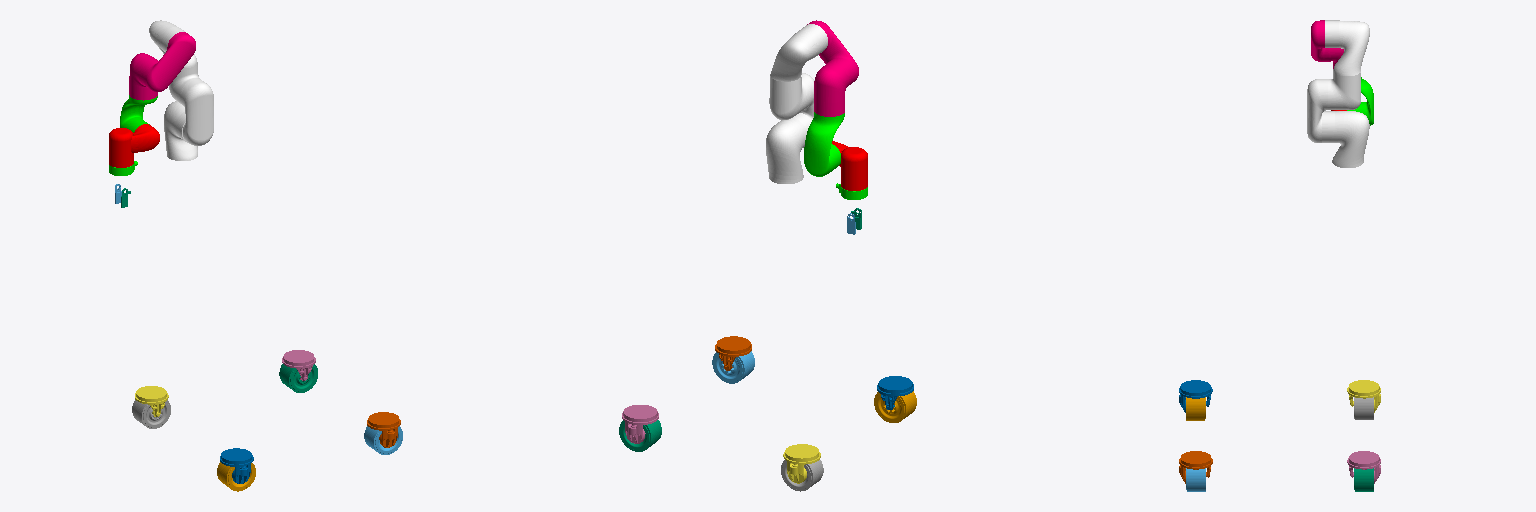
The robot description file, URDF, robot "demo_bot":
<?xml version="1.0" ?>
<robot name="demo_bot">

  <!-- KDL requires the tree root to have no inertia.  Keep the physical
       chassis unchanged beneath a massless fixed root frame. -->
  <link name="base_footprint"/>

  <joint name="base_footprint_to_chassis" type="fixed">
    <parent link="base_footprint"/>
    <child link="Chassis_1"/>
    <!-- The exported mesh/joint tree is X-up relative to ROS's Z-up view. -->
    <origin xyz="0 0 0.89259868" rpy="3.141592653589793 0 0"/>
  </joint>

  <link name="Chassis_1">
    <visual name="Chassis_1_visual">
      <origin xyz="0 0 0" rpy="0 0 0"/>
      <geometry>
        <mesh filename="package://base_urdf/meshes/Chassis_1.stl"/>
      </geometry>
      <material name="Chassis_1-material">
        <color rgba="0 1 0 1"/>
      </material>
    </visual>
    <collision name="Chassis_1_collision">
      <origin xyz="0 0 0" rpy="0 0 0"/>
      <geometry>
        <mesh filename="package://base_urdf/meshes/Chassis_1.stl"/>
      </geometry>
    </collision>
    <inertial>
      <mass value="15.0"/>
      <origin xyz="0.125 0.198 0.4" rpy="0 0 0"/>
      <inertia ixx="0.5" ixy="0.0" ixz="0.0" iyy="0.5" iyz="0.0" izz="0.5"/>
    </inertial>
  </link>

  <link name="arm_shoulder241_1">
    <visual>
      <geometry><mesh filename="package://base_urdf/meshes/arm_shoulder241_1.stl"/></geometry>
      <material name="white"><color rgba="1 1 1 1"/></material>
    </visual>
    <collision>
      <geometry><mesh filename="package://base_urdf/meshes/arm_shoulder241_1.stl"/></geometry>
    </collision>
    <inertial>
      <origin xyz="0.00022 0.02951 -0.0124" rpy="0 0 0"/>
      <mass value="2.382"/>
      <inertia ixx="0.005856" ixy="-1.79e-05" ixz="3.55e-06" iyy="0.005031" iyz="0.00149" izz="0.003536"/>
    </inertial>
  </link>

  <link name="arm_elbow_4_1">
    <visual>
      <geometry><mesh filename="package://base_urdf/meshes/arm_elbow_4_1.stl"/></geometry>
      <material name="white"><color rgba="1 1 1 1"/></material>
    </visual>
    <collision>
      <geometry><mesh filename="package://base_urdf/meshes/arm_elbow_4_1.stl"/></geometry>
    </collision>
    <inertial>
      <origin xyz="0.03853 -0.0906 0.0" rpy="0 0 0"/>
      <mass value="2.269"/>
      <inertia ixx="0.01572" ixy="0.003611" ixz="2.3e-06" iyy="0.00443" iyz="2.5e-06" izz="0.01532"/>
    </inertial>
  </link>

  <link name="elbow2_p4_1">
    <visual>
      <geometry><mesh filename="package://base_urdf/meshes/elbow2_p4_1.stl"/></geometry>
      <material name="red_ish"><color rgba="1 0 0.5 1"/></material>
    </visual>
    <collision>
      <geometry><mesh filename="package://base_urdf/meshes/elbow2_p4_1.stl"/></geometry>
    </collision>
    <inertial>
      <origin xyz="0.07048 0.04217 -0.00017" rpy="0 0 0"/>
      <mass value="1.875"/>
      <inertia ixx="0.004641" ixy="0.001595" ixz="1.1e-06" iyy="0.004625" iyz="-3.6e-06" izz="0.007501"/>
    </inertial>
  </link>

  <link name="wrist_1_p4_1">
    <visual>
      <geometry><mesh filename="package://base_urdf/meshes/wrist_1_p4_1.stl"/></geometry>
      <material name="green"><color rgba="0 1 0 1"/></material>
    </visual>
    <collision>
      <geometry><mesh filename="package://base_urdf/meshes/wrist_1_p4_1.stl"/></geometry>
    </collision>
    <inertial>
      <origin xyz="-0.00022 0.02951 -0.0124" rpy="0 0 0"/>
      <mass value="1.313"/>
      <inertia ixx="0.003905" ixy="5.04e-06" ixz="-4.2e-07" iyy="0.003794" iyz="0.000101" izz="0.001155"/>
    </inertial>
  </link>

  <link name="wrist_2_p4_1">
    <visual>
      <geometry><mesh filename="package://base_urdf/meshes/wrist_2_p4_1.stl"/></geometry>
      <material name="red"><color rgba="1 0 0 1"/></material>
    </visual>
    <collision>
      <geometry><mesh filename="package://base_urdf/meshes/wrist_2_p4_1.stl"/></geometry>
    </collision>
    <inertial>
      <origin xyz="0.06341 0.01024 0.00019" rpy="0 0 0"/>
      <mass value="1.338"/>
      <inertia ixx="0.001363" ixy="0.000236" ixz="-1.6e-07" iyy="0.002623" iyz="3.6e-07" izz="0.002692"/>
    </inertial>
  </link>

  <link name="end_effector_p4_1">
    <visual>
      <geometry><mesh filename="package://base_urdf/meshes/end_effector_p4_1.stl"/></geometry>
      <material name="green"><color rgba="0 1 0 1"/></material>
    </visual>
    <collision>
      <geometry><mesh filename="package://base_urdf/meshes/end_effector_p4_1.stl"/></geometry>
    </collision>
    <inertial>
      <origin xyz="0.0 0.0 -0.00643" rpy="0 0 0"/>
      <mass value="0.17"/>
      <inertia ixx="0.0001" ixy="0.0" ixz="0.0" iyy="0.0001" iyz="0.0" izz="0.0001"/>
    </inertial>
  </link>

  <link name="gripper_v43_1">
    <visual>
      <geometry><mesh filename="package://base_urdf/meshes/gripper_v43_1.stl"/></geometry>
    </visual>
    <collision>
      <geometry><mesh filename="package://base_urdf/meshes/gripper_v43_1.stl"/></geometry>
    </collision>
    <inertial>
      <mass value="0.5"/>
      <origin xyz="-0.133 -0.007 0.33" rpy="0 0 0"/>
      <inertia ixx="4.73e-05" iyy="5.61e-05" izz="8.89e-06" ixy="0" ixz="0" iyz="0"/>
    </inertial>
  </link>

  <link name="Finger_left_2">
    <visual><geometry><mesh filename="package://base_urdf/meshes/Finger_left_2.stl"/></geometry></visual>
    <collision><geometry><mesh filename="package://base_urdf/meshes/Finger_left_2.stl"/></geometry></collision>
    <inertial><mass value="0.1"/><inertia ixx="0.0001" iyy="0.0001" izz="0.0001" ixy="0" ixz="0" iyz="0"/></inertial>
  </link>
  <link name="Finger_right_2">
    <visual><geometry><mesh filename="package://base_urdf/meshes/Finger_right_2.stl"/></geometry></visual>
    <collision><geometry><mesh filename="package://base_urdf/meshes/Finger_right_2.stl"/></geometry></collision>
    <inertial><mass value="0.1"/><inertia ixx="0.0001" iyy="0.0001" izz="0.0001" ixy="0" ixz="0" iyz="0"/></inertial>
  </link>

  <link name="Az_Front_Left_1">
    <visual><geometry><mesh filename="package://base_urdf/meshes/Az_Front_Left_1.stl"/></geometry></visual>
    <collision><geometry><mesh filename="package://base_urdf/meshes/Az_Front_Left_1.stl"/></geometry></collision>
    <inertial><mass value="0.5"/><inertia ixx="0.01" iyy="0.01" izz="0.01" ixy="0" ixz="0" iyz="0"/></inertial>
  </link>
  <link name="Az_Front_right_1">
    <visual><geometry><mesh filename="package://base_urdf/meshes/Az_Front_right_1.stl"/></geometry></visual>
    <collision><geometry><mesh filename="package://base_urdf/meshes/Az_Front_right_1.stl"/></geometry></collision>
    <inertial><mass value="0.5"/><inertia ixx="0.01" iyy="0.01" izz="0.01" ixy="0" ixz="0" iyz="0"/></inertial>
  </link>
  <link name="Az_Back_Right_1">
    <visual><geometry><mesh filename="package://base_urdf/meshes/Az_Back_Right_1.stl"/></geometry></visual>
    <collision><geometry><mesh filename="package://base_urdf/meshes/Az_Back_Right_1.stl"/></geometry></collision>
    <inertial><mass value="0.5"/><inertia ixx="0.01" iyy="0.01" izz="0.01" ixy="0" ixz="0" iyz="0"/></inertial>
  </link>
  <link name="Az_Back_left_1">
    <visual><geometry><mesh filename="package://base_urdf/meshes/Az_Back_left_1.stl"/></geometry></visual>
    <collision><geometry><mesh filename="package://base_urdf/meshes/Az_Back_left_1.stl"/></geometry></collision>
    <inertial><mass value="0.5"/><inertia ixx="0.01" iyy="0.01" izz="0.01" ixy="0" ixz="0" iyz="0"/></inertial>
  </link>

  <link name="Wheel_Front_Left_1">
    <visual><geometry><mesh filename="package://base_urdf/meshes/Wheel_Front_Left_1.stl"/></geometry></visual>
    <collision><geometry><mesh filename="package://base_urdf/meshes/Wheel_Front_Left_1.stl"/></geometry></collision>
    <inertial><mass value="1.0"/><inertia ixx="0.02" iyy="0.02" izz="0.02" ixy="0" ixz="0" iyz="0"/></inertial>
  </link>
  <link name="Wheel_Front_Right_1">
    <visual><geometry><mesh filename="package://base_urdf/meshes/Wheel_Front_Right_1.stl"/></geometry></visual>
    <collision><geometry><mesh filename="package://base_urdf/meshes/Wheel_Front_Right_1.stl"/></geometry></collision>
    <inertial><mass value="1.0"/><inertia ixx="0.02" iyy="0.02" izz="0.02" ixy="0" ixz="0" iyz="0"/></inertial>
  </link>
  <link name="Wheel_Back_Right_1">
    <visual><geometry><mesh filename="package://base_urdf/meshes/Wheel_Back_Right_1.stl"/></geometry></visual>
    <collision><geometry><mesh filename="package://base_urdf/meshes/Wheel_Back_Right_1.stl"/></geometry></collision>
    <inertial><mass value="1.0"/><inertia ixx="0.02" iyy="0.02" izz="0.02" ixy="0" ixz="0" iyz="0"/></inertial>
  </link>
  <link name="Wheel_Back_Left_1">
    <visual><geometry><mesh filename="package://base_urdf/meshes/Wheel_Back_Left_1.stl"/></geometry></visual>
    <collision><geometry><mesh filename="package://base_urdf/meshes/Wheel_Back_Left_1.stl"/></geometry></collision>
    <inertial><mass value="1.0"/><inertia ixx="0.02" iyy="0.02" izz="0.02" ixy="0" ixz="0" iyz="0"/></inertial>
  </link>

  <joint name="Revolute_9" type="revolute">
    <origin xyz="0 0 0" rpy="-3.14159261 0 3.13783310"/>
    <parent link="Chassis_1"/>
    <child link="arm_shoulder241_1"/>
    <axis xyz="0 0 -1"/>
    <limit effort="50.0" velocity="3.14" lower="-6.2831853" upper="6.2831853"/>
  </joint>

  <joint name="Revolute_10" type="revolute">
    <origin xyz="-0.00320691 0.077 0.11500004" rpy="1.5670368 -1.5707963 0"/>
    <parent link="arm_shoulder241_1"/>
    <child link="arm_elbow_4_1"/>
    <axis xyz="0 0 -1"/>
    <limit effort="50.0" velocity="3.14" lower="-2.059" upper="2.0944"/>
  </joint>

  <joint name="Revolute_11" type="revolute">
    <origin xyz="0.28467 -0.05322 0.00817" rpy="0 0 0"/>
    <parent link="arm_elbow_4_1"/>
    <child link="elbow2_p4_1"/>
    <axis xyz="0 0 -1"/>
    <limit effort="32.0" velocity="3.14" lower="-3.927" upper="0.19198"/>
  </joint>

  <joint name="Revolute_12" type="revolute">
    <origin xyz="-0.16933092 -0.08577945 0.06658" rpy="0 1.5707963 0"/>
    <parent link="elbow2_p4_1"/>
    <child link="wrist_1_p4_1"/>
    <axis xyz="0 0 -1"/>
    <limit effort="32.0" velocity="3.14" lower="-6.2831853" upper="6.2831853"/>
  </joint>

  <joint name="Revolute_13" type="revolute">
    <origin xyz="1.23e-06 1.02e-06 -0.13555" rpy="-1.5707963 0 1.5707963"/>
    <parent link="wrist_1_p4_1"/>
    <child link="wrist_2_p4_1"/>
    <axis xyz="0 0 -1"/>
    <limit effort="32.0" velocity="3.14" lower="-1.69297" upper="3.14159261"/>
  </joint>

  <joint name="Revolute_14" type="revolute">
    <origin xyz="-0.07700037 0.07099971 0" rpy="1.5707963 0 0"/>
    <parent link="wrist_2_p4_1"/>
    <child link="end_effector_p4_1"/>
    <axis xyz="0 0 -1"/>
    <limit effort="20.0" velocity="3.14" lower="-3.14159261" upper="3.14159261"/>
  </joint>

  <joint name="Fastened_1" type="fixed">
    <origin xyz="0 0 -0.028" rpy="0 0 1.5707963"/>
    <parent link="end_effector_p4_1"/>
    <child link="gripper_v43_1"/>
  </joint>

  <joint name="Slider_1" type="prismatic">
    <origin xyz="0.0161 0.0007 -0.06" rpy="-1.5707963 0 1.623"/>
    <parent link="gripper_v43_1"/>
    <child link="Finger_left_2"/>
    <axis xyz="0 0 -1"/>
    <limit effort="1" velocity="1" lower="-0.1" upper="0.1"/>
  </joint>

  <joint name="Slider_2" type="prismatic">
    <origin xyz="-0.0186 -0.001 -0.06" rpy="1.5707963 0 1.623"/>
    <parent link="gripper_v43_1"/>
    <child link="Finger_right_2"/>
    <axis xyz="0 0 -1"/>
    <limit effort="1" velocity="1" lower="-0.1" upper="0.1"/>
  </joint>

  <joint name="Revolute_5" type="revolute">
    <origin xyz="-0.078325 -0.04888 0.78425" rpy="-3.14159 0 3.14159"/>
    <parent link="Chassis_1"/>
    <child link="Az_Front_Left_1"/>
    <axis xyz="0 0 -1"/><limit effort="1" velocity="1" lower="-6.28" upper="6.28"/>
  </joint>
  <joint name="Revolute_6" type="revolute">
    <origin xyz="-0.078325 0.4585 0.7848" rpy="-3.14159 0 3.14159"/>
    <parent link="Chassis_1"/>
    <child link="Az_Front_right_1"/>
    <axis xyz="0 0 -1"/><limit effort="1" velocity="1" lower="-6.28" upper="6.28"/>
  </joint>
  <joint name="Revolute_7" type="revolute">
    <origin xyz="0.429 0.458 0.784" rpy="3.14159 0 0"/>
    <parent link="Chassis_1"/>
    <child link="Az_Back_Right_1"/>
    <axis xyz="0 0 -1"/><limit effort="1" velocity="1" lower="-6.28" upper="6.28"/>
  </joint>
  <joint name="Revolute_8" type="revolute">
    <origin xyz="0.429 -0.049 0.784" rpy="3.14159 0 0"/>
    <parent link="Chassis_1"/>
    <child link="Az_Back_left_1"/>
    <axis xyz="0 0 -1"/><limit effort="1" velocity="1" lower="-6.28" upper="6.28"/>
  </joint>

  <joint name="Revolute_1" type="revolute">
    <parent link="Az_Front_Left_1"/><child link="Wheel_Front_Left_1"/>
    <origin xyz="0 0.0024 -0.057" rpy="-1.5707 0 0"/><axis xyz="0 0 -1"/><limit effort="1" velocity="1" lower="-6.28" upper="6.28"/>
  </joint>
  <joint name="Revolute_2" type="revolute">
    <parent link="Az_Front_right_1"/><child link="Wheel_Front_Right_1"/>
    <origin xyz="0 -0.0024 -0.057" rpy="1.5707 0 0"/><axis xyz="0 0 -1"/><limit effort="1" velocity="1" lower="-6.28" upper="6.28"/>
  </joint>
  <joint name="Revolute_3" type="revolute">
    <parent link="Az_Back_Right_1"/><child link="Wheel_Back_Right_1"/>
    <origin xyz="0 0.0024 -0.057" rpy="-1.5707 0 0"/><axis xyz="0 0 -1"/><limit effort="1" velocity="1" lower="-6.28" upper="6.28"/>
  </joint>
  <joint name="Revolute_4" type="revolute">
    <parent link="Az_Back_left_1"/><child link="Wheel_Back_Left_1"/>
    <origin xyz="0 -0.0024 -0.057" rpy="1.5707 0 0"/><axis xyz="0 0 -1"/><limit effort="1" velocity="1" lower="-6.28" upper="6.28"/>
  </joint>

  <!-- Physical camera frames use the ROS camera_link convention: X forward,
       Y left, Z up. Optical children use REP-103: Z forward, X right, Y down. -->
  <link name="zed_x_mount"/>
  <joint name="zed_x_mount_joint" type="fixed">
    <!-- Parent to the corrected root so the chassis inversion is not applied
         a second time to this transform extracted from the USD world frame. -->
    <parent link="base_footprint"/>
    <child link="zed_x_mount"/>
    <origin xyz="0.08318796 0.03996821 1.50901977"
            rpy="-0.00002608 0.52735827 -0.00600658"/>
  </joint>
  <link name="zed_x_left_camera"/>
  <joint name="zed_x_left_optical_joint" type="fixed">
    <parent link="zed_x_mount"/>
    <child link="zed_x_left_camera"/>
    <!-- <origin xyz="0 0 0" rpy="-1.570796326794897 0 -1.570796326794897"/> -->
    <origin xyz="0 0 0" rpy="-1.570796326794897 -1.570796326794897 -1.570796326794897"/>
  </joint>

  <link name="zed_x_nano_mount"/>
  <joint name="zed_x_nano_mount_joint" type="fixed">
    <parent link="gripper_v43_1"/>
    <child link="zed_x_nano_mount"/>
    <origin xyz="0.05207864 0.03019945 -0.04880624"
            rpy="-1.51883872 0.05957537 -1.70751561"/>
  </joint>
  <link name="zed_x_nano_left_camera"/>
  <joint name="zed_x_nano_left_optical_joint" type="fixed">
    <parent link="zed_x_nano_mount"/>
    <child link="zed_x_nano_left_camera"/>
    <origin xyz="0 0 0" rpy="-1.570796326794897 0 -1.570796326794897"/>
  </joint>

</robot>

--- Render facts (derived) ---
3 views of the same robot in one strip: view 1: azimuth 30°, elevation 25°; view 2: azimuth 150°, elevation 25°; view 3: azimuth 270°, elevation 25° (orthographic).
Robot: demo_bot — 23 links, 22 joints (14 revolute, 2 prismatic, 6 fixed); root link base_footprint; default pose: every joint at zero.
Links seen in each view (by area): view 1: arm_elbow_4_1, elbow2_p4_1, wrist_2_p4_1, arm_shoulder241_1, Az_Front_right_1, Az_Back_Right_1, wrist_1_p4_1, Wheel_Back_Left_1, Wheel_Front_Left_1, Az_Front_Left_1, Az_Back_left_1, Wheel_Front_Right_1 (+1 smaller); view 2: arm_elbow_4_1, elbow2_p4_1, arm_shoulder241_1, wrist_1_p4_1, wrist_2_p4_1, Az_Front_Left_1, Az_Back_left_1, Wheel_Front_Right_1, Wheel_Back_Right_1, Az_Front_right_1, Az_Back_Right_1, Wheel_Back_Left_1 (+1 smaller); view 3: arm_elbow_4_1, arm_shoulder241_1, elbow2_p4_1, Az_Back_Right_1, Az_Front_right_1, Az_Front_Left_1, Az_Back_left_1.
Link boxes in pixels (<box>): arm_elbow_4_1: <box>149,20,213,145</box>; elbow2_p4_1: <box>129,32,195,100</box>; wrist_2_p4_1: <box>109,124,159,167</box>; arm_shoulder241_1: <box>164,101,197,160</box>; Az_Front_right_1: <box>220,448,253,483</box>; Az_Back_Right_1: <box>367,412,400,447</box>; wrist_1_p4_1: <box>120,95,157,132</box>; Wheel_Back_Left_1: <box>279,364,317,392</box>; Wheel_Front_Left_1: <box>132,400,170,428</box>; Az_Front_Left_1: <box>135,386,168,416</box>; Az_Back_left_1: <box>282,350,315,380</box>; Wheel_Front_Right_1: <box>217,462,255,491</box>; arm_elbow_4_1: <box>769,24,827,119</box>; elbow2_p4_1: <box>807,20,858,116</box>; arm_shoulder241_1: <box>766,113,811,183</box>; wrist_1_p4_1: <box>804,112,844,176</box>; wrist_2_p4_1: <box>832,141,867,190</box>; Az_Front_Left_1: <box>783,444,820,483</box>; Az_Back_left_1: <box>622,405,658,443</box>; Wheel_Front_Right_1: <box>874,391,916,422</box>; Wheel_Back_Right_1: <box>712,351,754,383</box>; Az_Front_right_1: <box>877,376,913,409</box>; Az_Back_Right_1: <box>715,336,751,370</box>; Wheel_Back_Left_1: <box>619,420,661,451</box>; arm_elbow_4_1: <box>1307,20,1369,142</box>; arm_shoulder241_1: <box>1322,111,1369,167</box>; elbow2_p4_1: <box>1311,20,1343,68</box>; Az_Back_Right_1: <box>1179,451,1212,483</box>; Az_Front_right_1: <box>1179,380,1212,412</box>; Az_Front_Left_1: <box>1347,380,1380,412</box>; Az_Back_left_1: <box>1347,451,1380,483</box>.
Size in the robot's own frame: 0.7298 by 0.61 by 1.33 metres.
Meshes: 18 distinct files referenced, 16 mesh visuals loaded (16 binary STL); not drawn: 2 (reference not matched to a file when rendering).
